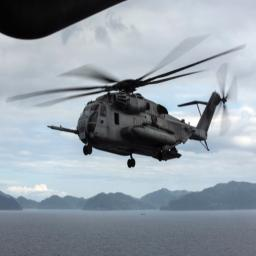helicopter: (45, 29, 249, 173)
